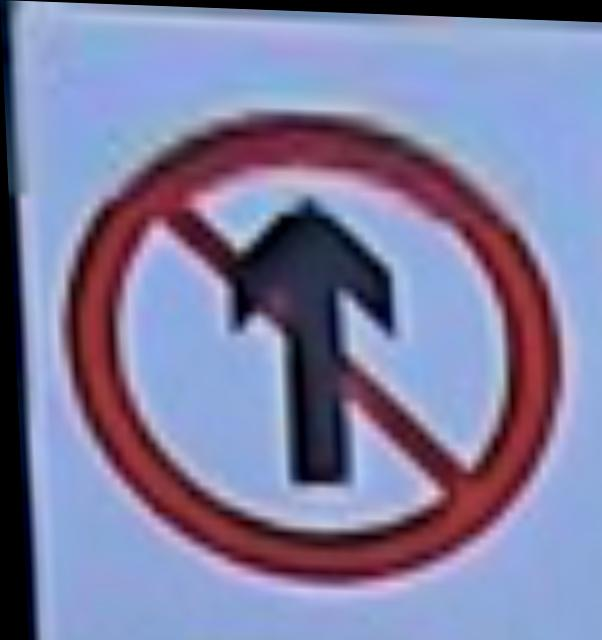not_go_straight: (49, 54, 571, 599)
